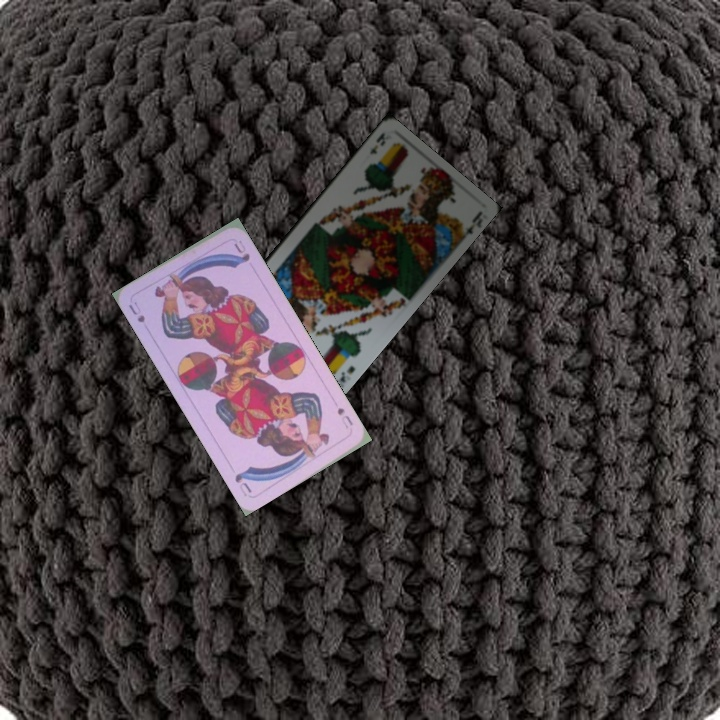EK: (330, 362, 358, 391), (365, 129, 388, 157)
SU: (125, 297, 148, 325), (333, 404, 356, 431)
